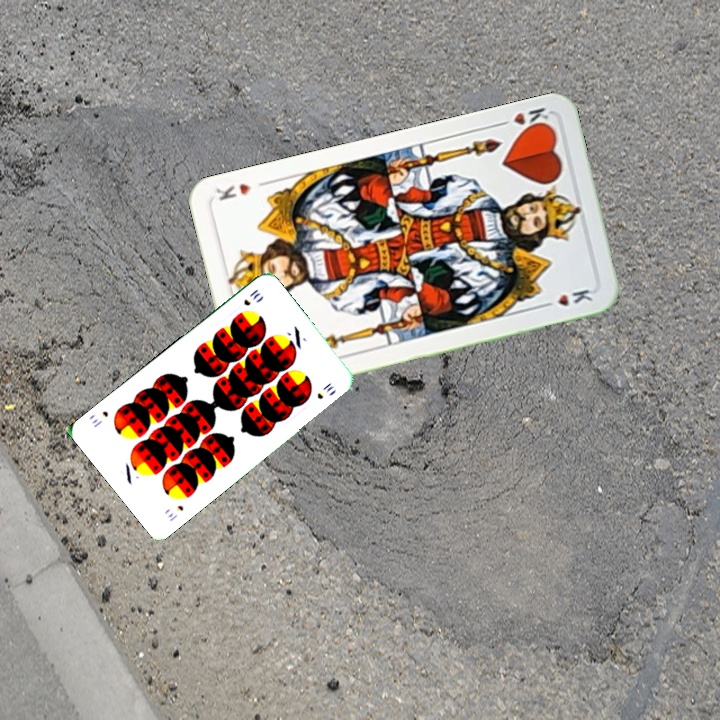HK: (493, 103, 554, 135)
S10: (240, 285, 263, 308), (163, 501, 186, 524)
